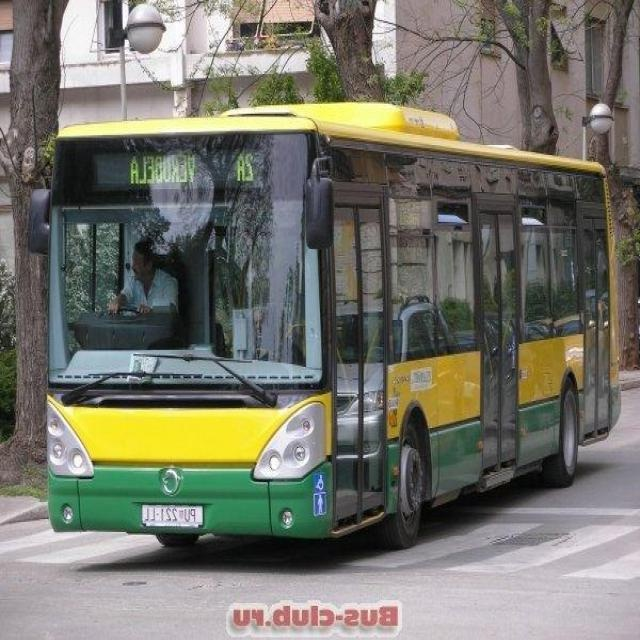bus: (12, 79, 627, 570)
